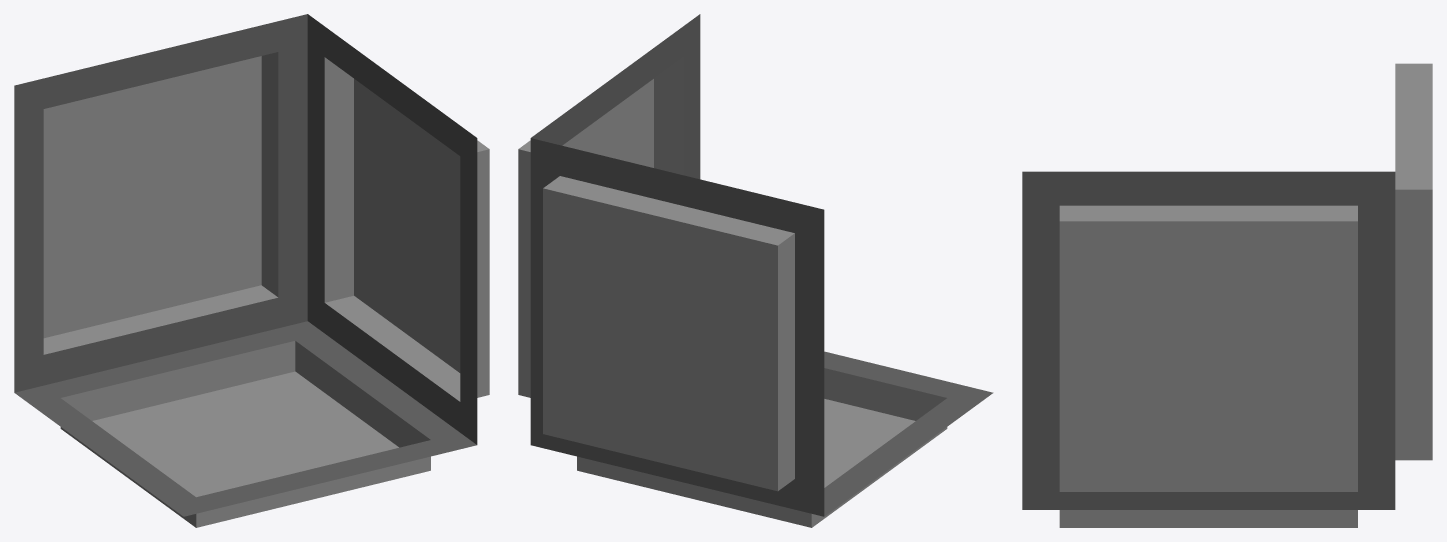
Rendered from Building_Deco_04_Edge.FBX.
The picture shows the model from 3 angles, left to right: view 1: azimuth 30°, elevation 25°; view 2: azimuth 150°, elevation 25°; view 3: azimuth 270°, elevation 25°; orthographic projection. The views are drawn at different scales.
Parts seen in each view (by area): view 1: Building_Deco_04_Edge_LOD0; view 2: Building_Deco_04_Edge_LOD0; view 3: Building_Deco_04_Edge_LOD0.
Boxes of the visible parts, x1,y1,x2,y2 form: Building_Deco_04_Edge_LOD0: [14, 14, 489, 527]; Building_Deco_04_Edge_LOD0: [518, 14, 993, 527]; Building_Deco_04_Edge_LOD0: [1022, 63, 1432, 527].
Size of what is drawn, in the model's own units: 49.5 by 49.5 by 49.5.
